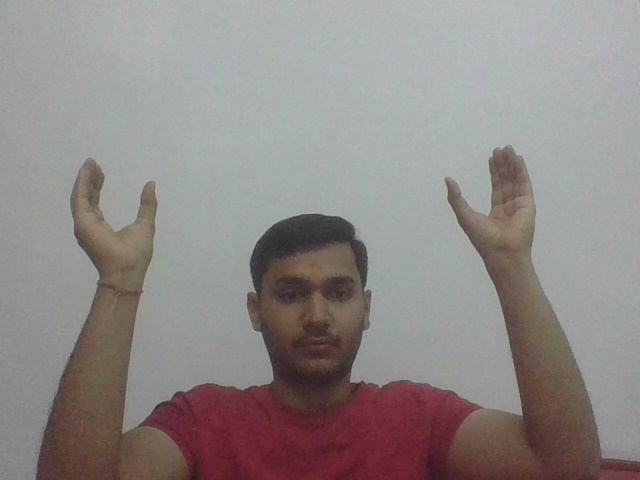U: (443, 141, 540, 257), (66, 153, 162, 268)
